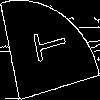T: (25, 25, 69, 66)
